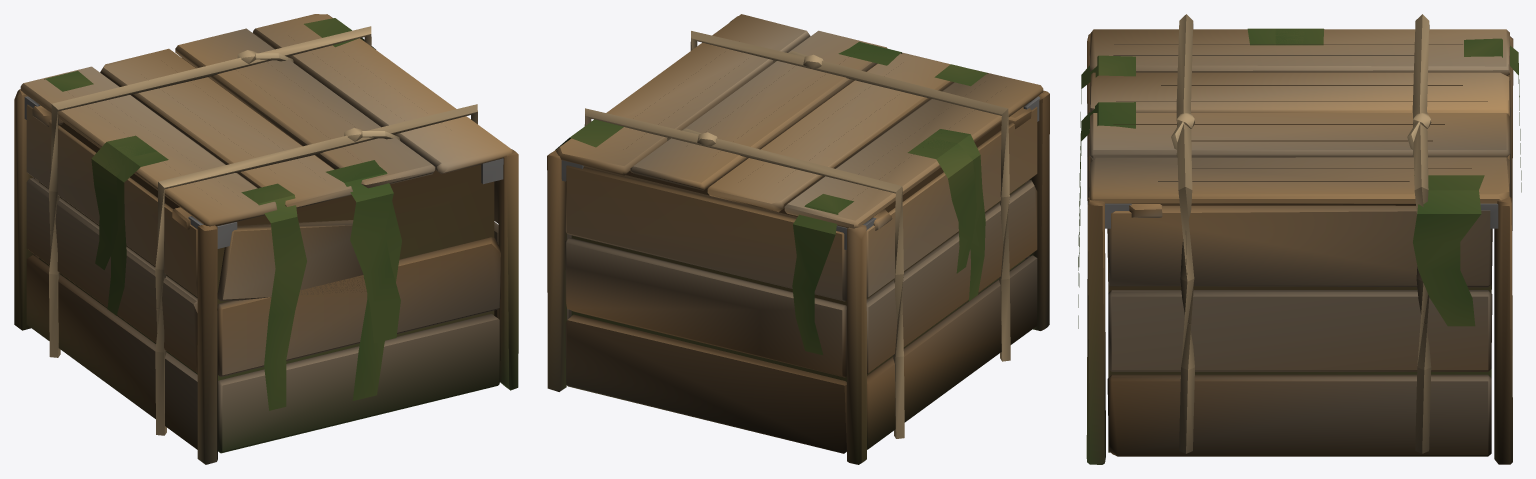
File: building-driftCrate-low.glb
The picture shows the model from 3 angles, left to right: view 1: azimuth 30°, elevation 25°; view 2: azimuth 150°, elevation 25°; view 3: azimuth 270°, elevation 25°; orthographic projection. The views are drawn at different scales.
Visible parts, largest first — view 1: 0_driftCrate; view 2: 0_driftCrate; view 3: 0_driftCrate.
Part boxes in pixels (x1,y1,x2,y2): 0_driftCrate: (14,14,518,464); 0_driftCrate: (547,14,1049,464); 0_driftCrate: (1078,14,1521,464).
Size of the model in its own units: 0.79 by 0.592 by 0.828.
